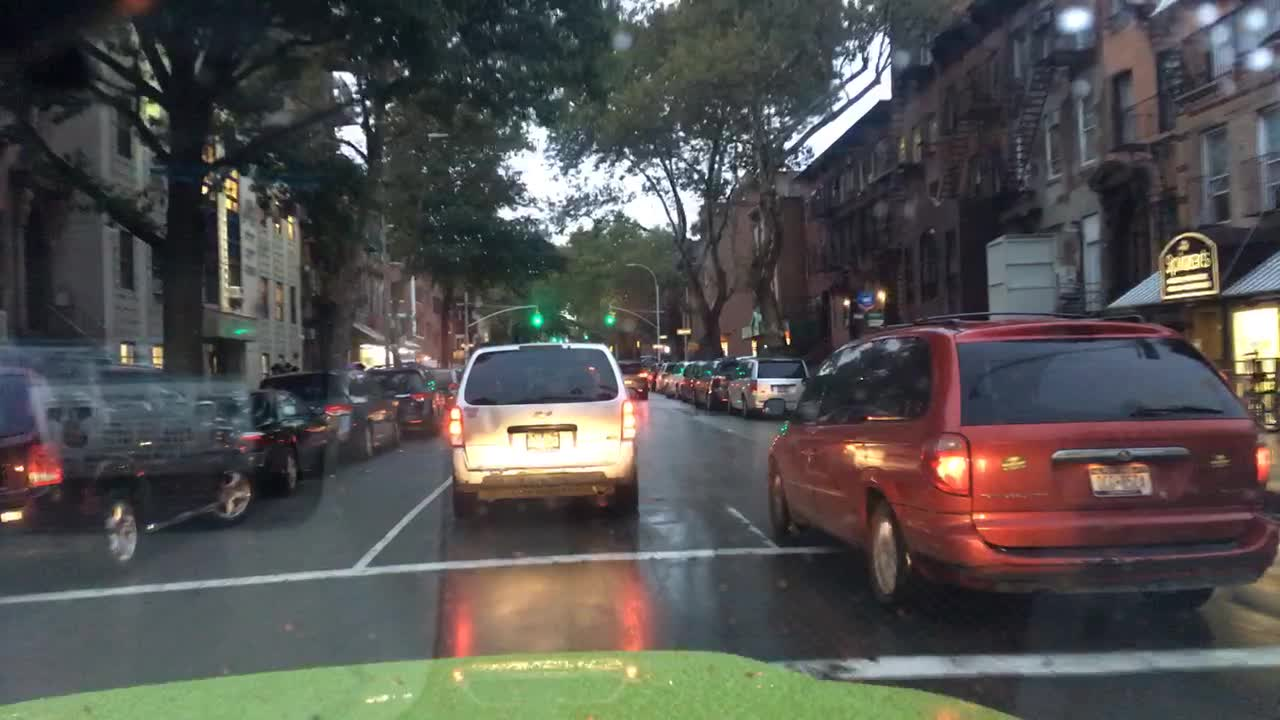car: (762, 313, 1277, 618), (0, 361, 254, 574), (443, 341, 650, 519), (186, 379, 344, 495), (252, 368, 408, 463), (357, 363, 452, 436), (722, 353, 813, 423), (701, 353, 742, 410), (610, 357, 650, 401), (426, 357, 461, 405), (687, 355, 718, 407), (667, 355, 696, 396), (650, 357, 681, 392)
traffic light: (601, 306, 621, 328), (527, 304, 544, 326)
traffic sign: (672, 324, 692, 341)
